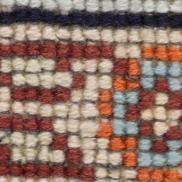Knot: (51, 102, 68, 117), (35, 131, 51, 146), (24, 26, 40, 40), (139, 30, 155, 44), (37, 102, 51, 117), (22, 148, 37, 162), (53, 88, 68, 102), (84, 28, 99, 42), (95, 59, 110, 73), (93, 150, 108, 164), (126, 13, 142, 26), (64, 135, 80, 148), (117, 168, 133, 181), (111, 30, 128, 42), (99, 28, 113, 42), (8, 148, 22, 162), (68, 88, 82, 102), (39, 10, 53, 24), (153, 31, 168, 44), (22, 133, 37, 146), (126, 44, 141, 57), (80, 151, 95, 164), (93, 166, 108, 179), (153, 46, 168, 59), (84, 13, 99, 26), (166, 108, 181, 121), (39, 59, 55, 71), (55, 57, 68, 71), (11, 57, 24, 71), (68, 44, 82, 57), (35, 148, 48, 162), (168, 30, 181, 44), (150, 153, 164, 166), (64, 150, 77, 164), (57, 13, 71, 26), (37, 75, 51, 88), (139, 44, 153, 57), (51, 119, 64, 133), (22, 101, 37, 113), (40, 26, 53, 39), (26, 42, 39, 55), (55, 26, 68, 39), (11, 73, 24, 86), (24, 73, 37, 86), (153, 62, 166, 75), (64, 164, 77, 177), (142, 15, 155, 28), (137, 122, 150, 135), (50, 150, 64, 162), (68, 59, 82, 71), (26, 10, 40, 22), (150, 139, 164, 151), (166, 62, 177, 77), (10, 131, 22, 144), (126, 30, 139, 42), (150, 168, 162, 181), (24, 59, 37, 71), (153, 79, 166, 91), (79, 166, 91, 179), (70, 75, 82, 88), (168, 79, 181, 91), (13, 26, 24, 40), (70, 28, 82, 40), (39, 90, 51, 102), (99, 44, 110, 57), (35, 164, 48, 175), (11, 117, 22, 130), (55, 44, 66, 57), (137, 168, 148, 181), (22, 164, 33, 177), (26, 117, 37, 130), (11, 42, 22, 55), (53, 135, 64, 148), (168, 17, 181, 28), (95, 137, 108, 148), (8, 164, 20, 175), (11, 102, 22, 113), (39, 119, 50, 130), (51, 164, 62, 175), (84, 46, 95, 57), (11, 88, 22, 99), (24, 88, 35, 99), (46, 44, 55, 57), (8, 175, 19, 181), (24, 177, 33, 181)
